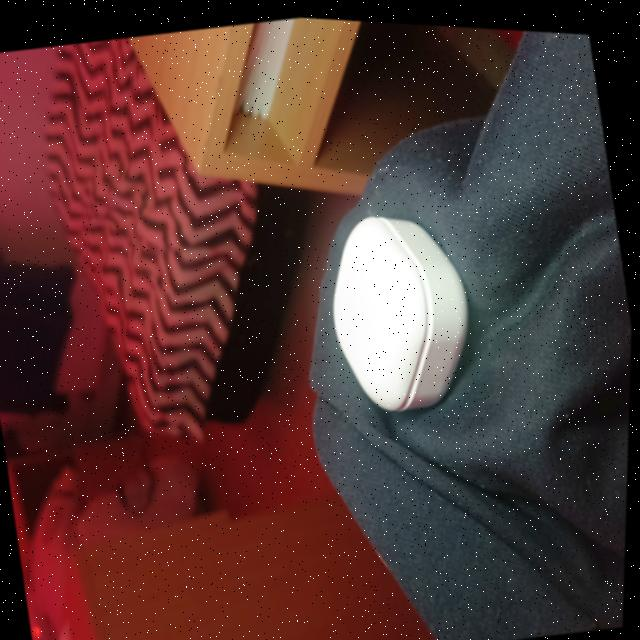headphones: (335, 211, 469, 404), (449, 315, 456, 320)
